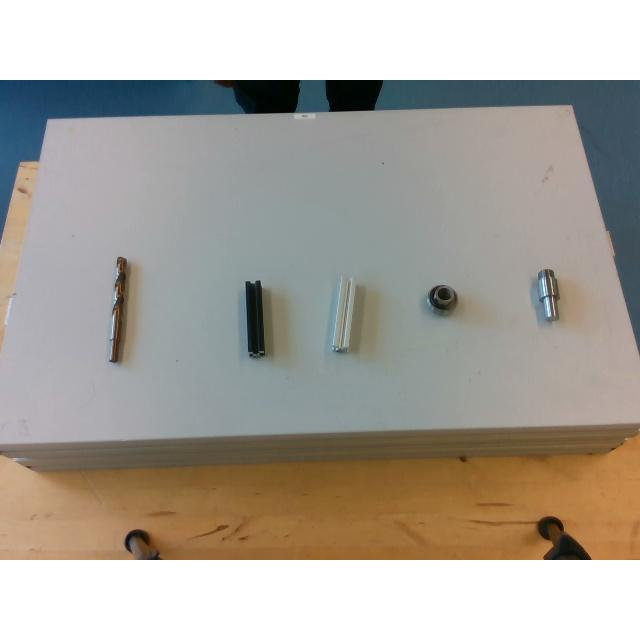Axis2: (538, 269, 558, 319)
Bearing2: (428, 284, 457, 312)
Drill: (109, 256, 128, 360)
F20_20_G: (329, 276, 355, 352)
S40_40_B: (245, 280, 265, 356)
